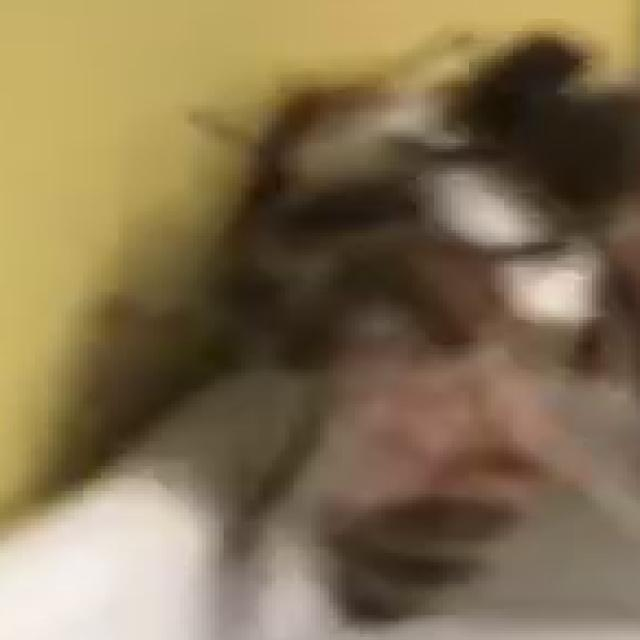honeybee: (193, 74, 497, 632), (452, 22, 640, 439)
